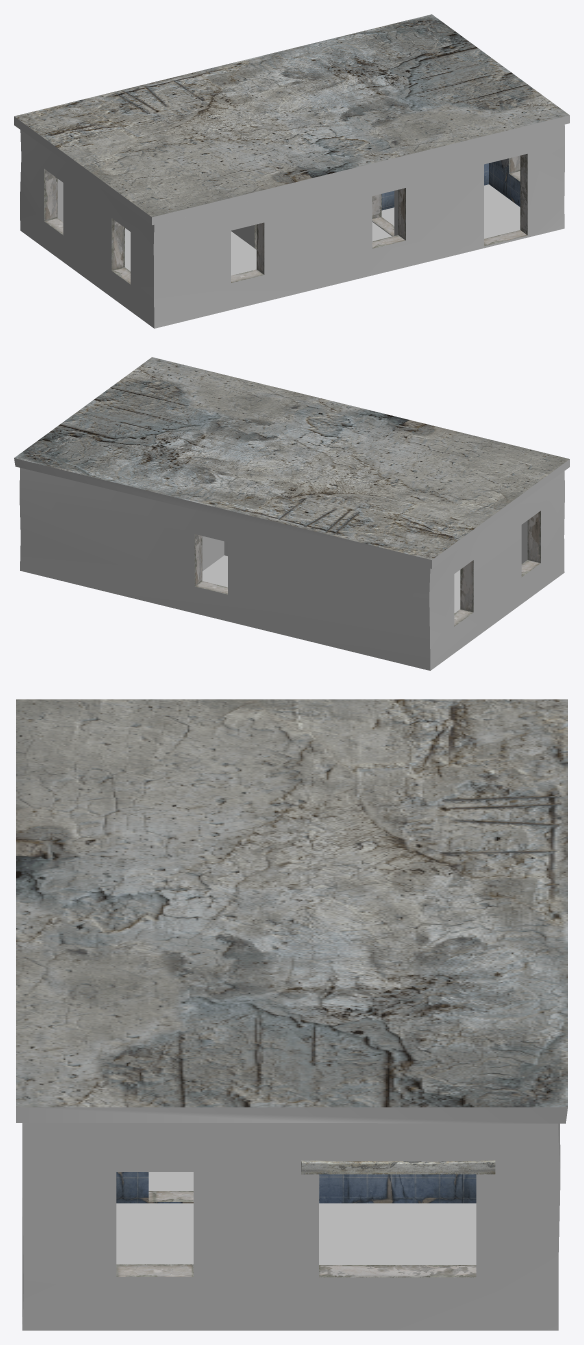
File: Corps_Form_01_2.FBX
The picture shows the model from 3 angles, top to bottom: view 1: azimuth 30°, elevation 25°; view 2: azimuth 150°, elevation 25°; view 3: azimuth 270°, elevation 25°; orthographic projection. The views are drawn at different scales.
Visible parts, largest first — view 1: Corps_01_2; view 2: Corps_01_2; view 3: Corps_01_2.
Boxes of the visible parts, <box> form: Corps_01_2: <box>14,14,569,328</box>; Corps_01_2: <box>14,357,569,670</box>; Corps_01_2: <box>16,699,567,1330</box>.
Bounding box in the file's own units: 1182 × 676 × 307.
